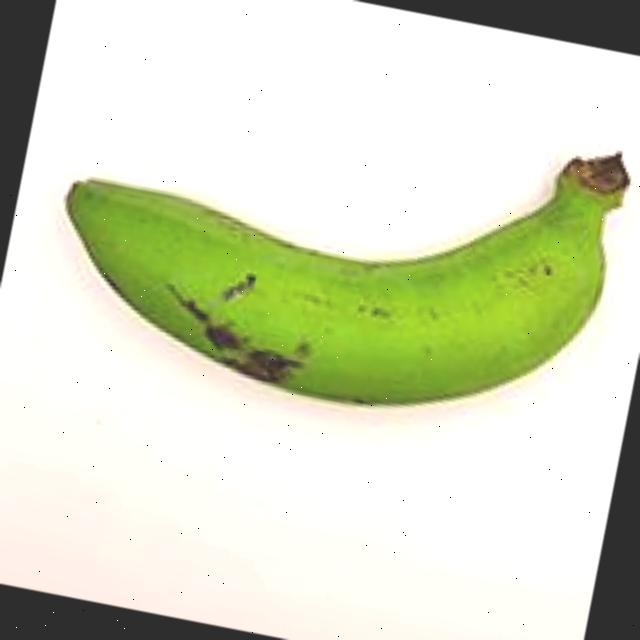Raw: (8, 31, 640, 479)
